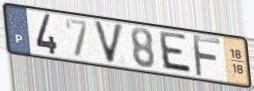4: (34, 13, 59, 57)
7: (64, 18, 90, 60)
8: (130, 26, 158, 70)
E: (159, 29, 195, 77)
F: (191, 33, 223, 79)
V: (91, 19, 126, 66)
